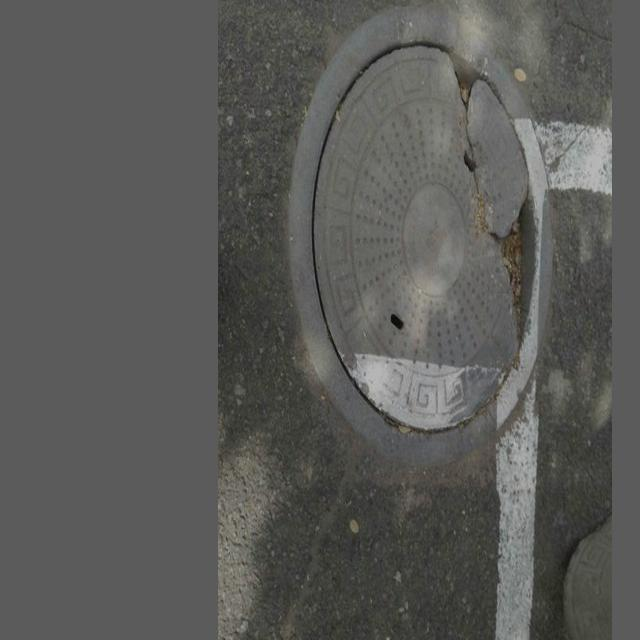broke: (277, 0, 559, 462)
